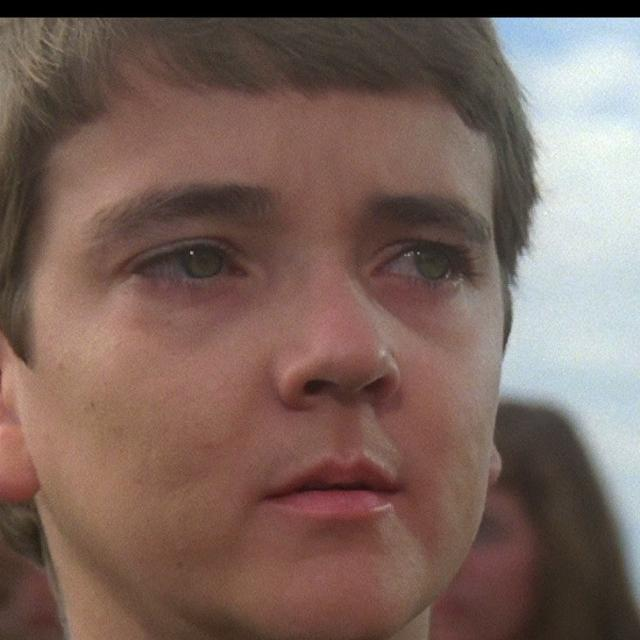Depress: (32, 91, 507, 639)
